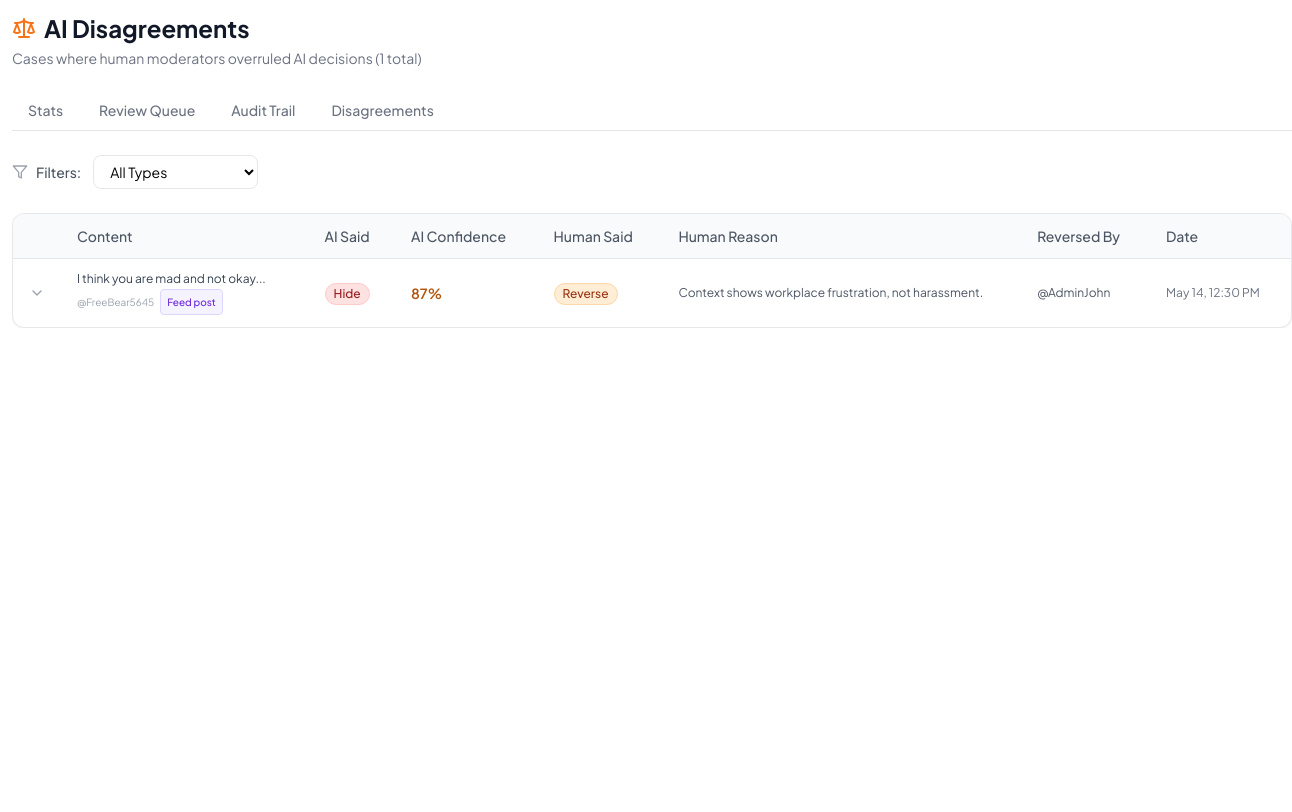
AIDisagreementsPage › expands row to show AI vs Human detail
Step 1. Click the text "87%" → (419, 293), box [411,284,442,302]
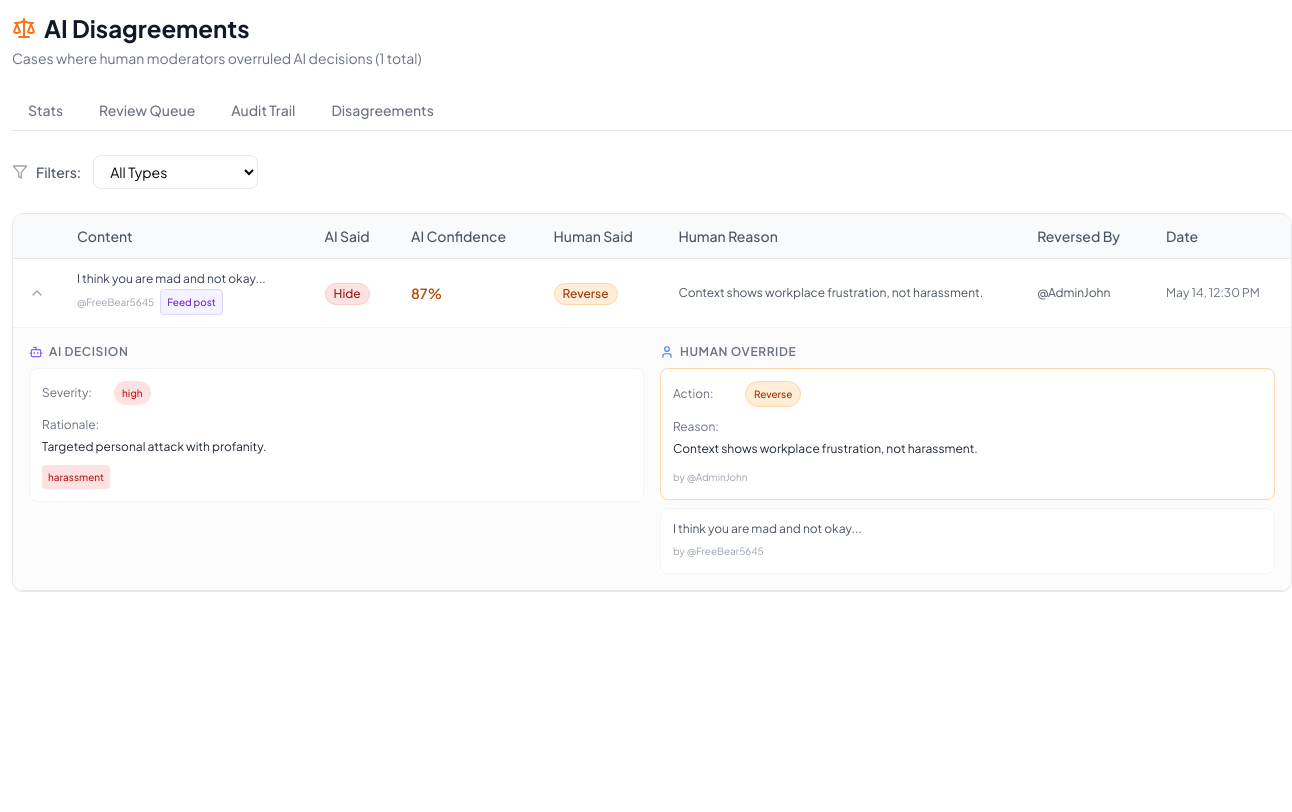
Now the heading "AI Decision" is shown, box [29,344,128,359]
Now the heading "Human Override" is shown, box [660,344,796,359]
Now the text "Targeted personal attack with profanity." is shown, box [42,439,266,454]
